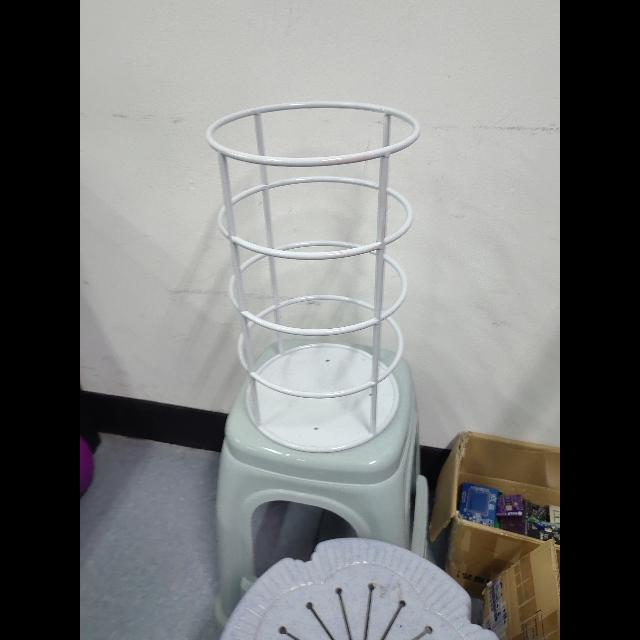S: (202, 98, 424, 454)
